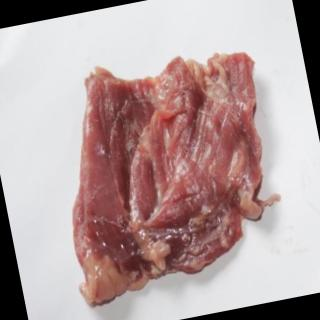Daging Sapi: (39, 38, 295, 314)
